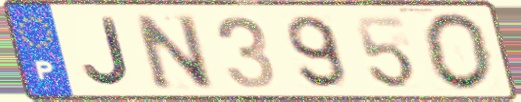3: (214, 14, 276, 89)
5: (351, 14, 419, 90)
9: (283, 13, 351, 90)
J: (80, 15, 134, 89)
N: (129, 12, 218, 92)
O: (420, 10, 496, 93)
